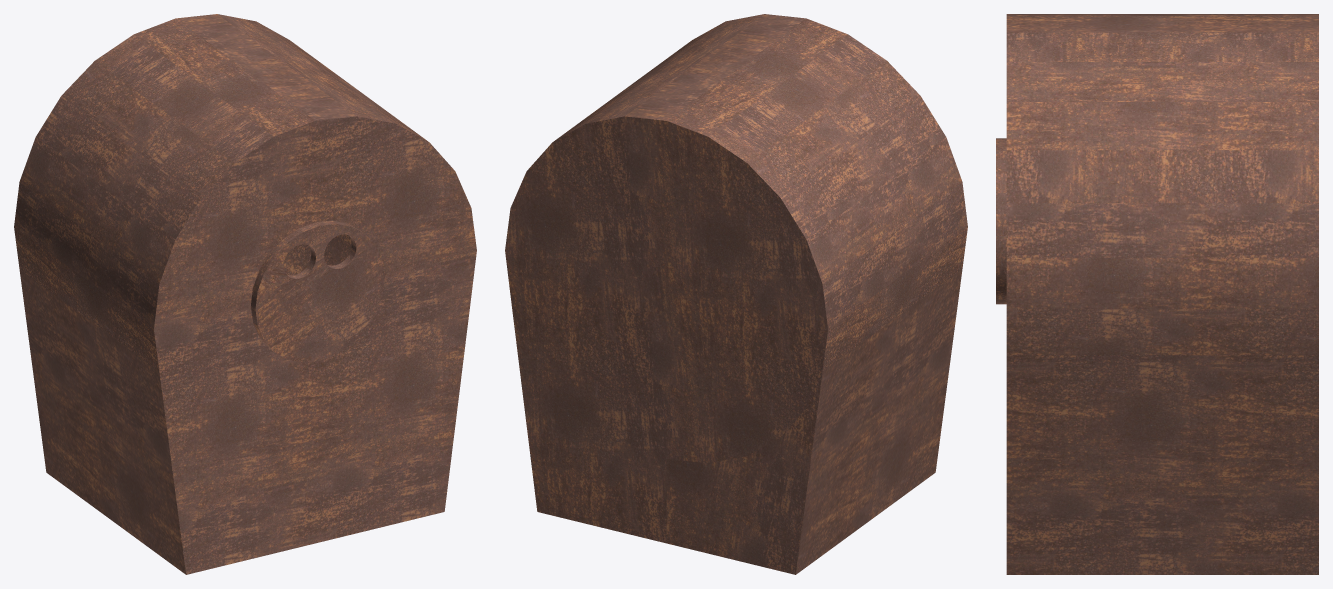
File: 窑头部分.glb
3 views of the same model, side by side, from view 1: azimuth 30°, elevation 25°; view 2: azimuth 150°, elevation 25°; view 3: azimuth 270°, elevation 25° (orthographic). The views are drawn at different scales.
Visible parts, largest first — view 1: root; view 2: root; view 3: root.
Boxes of the visible parts, x1,y1,x2,y2 form: root: (14,14,476,574); root: (505,14,967,574); root: (996,14,1318,574).
Size of the model in its own units: 2 by 2.5 by 1.55.
Materials: 1 (1 with a texture image).
